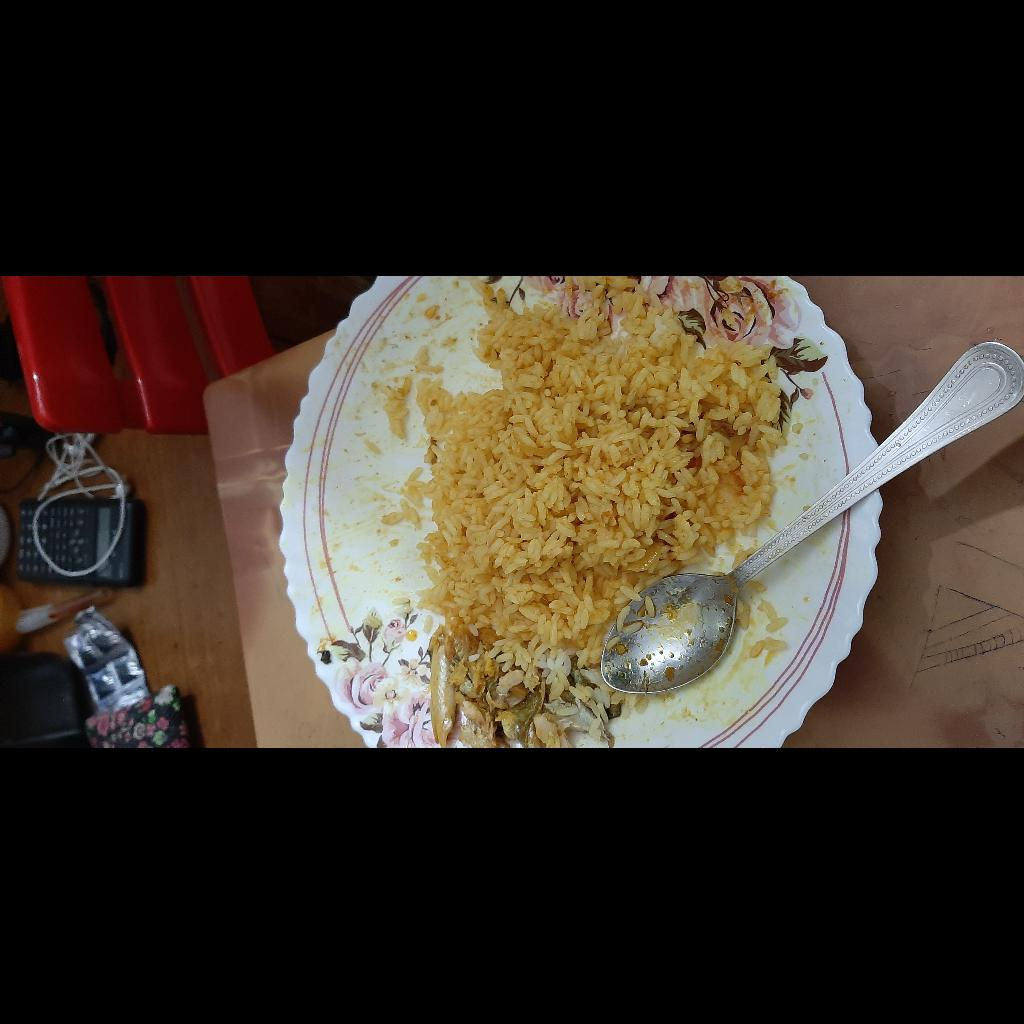biriyani: (0, 659, 472, 1024), (128, 1013, 165, 1024)
